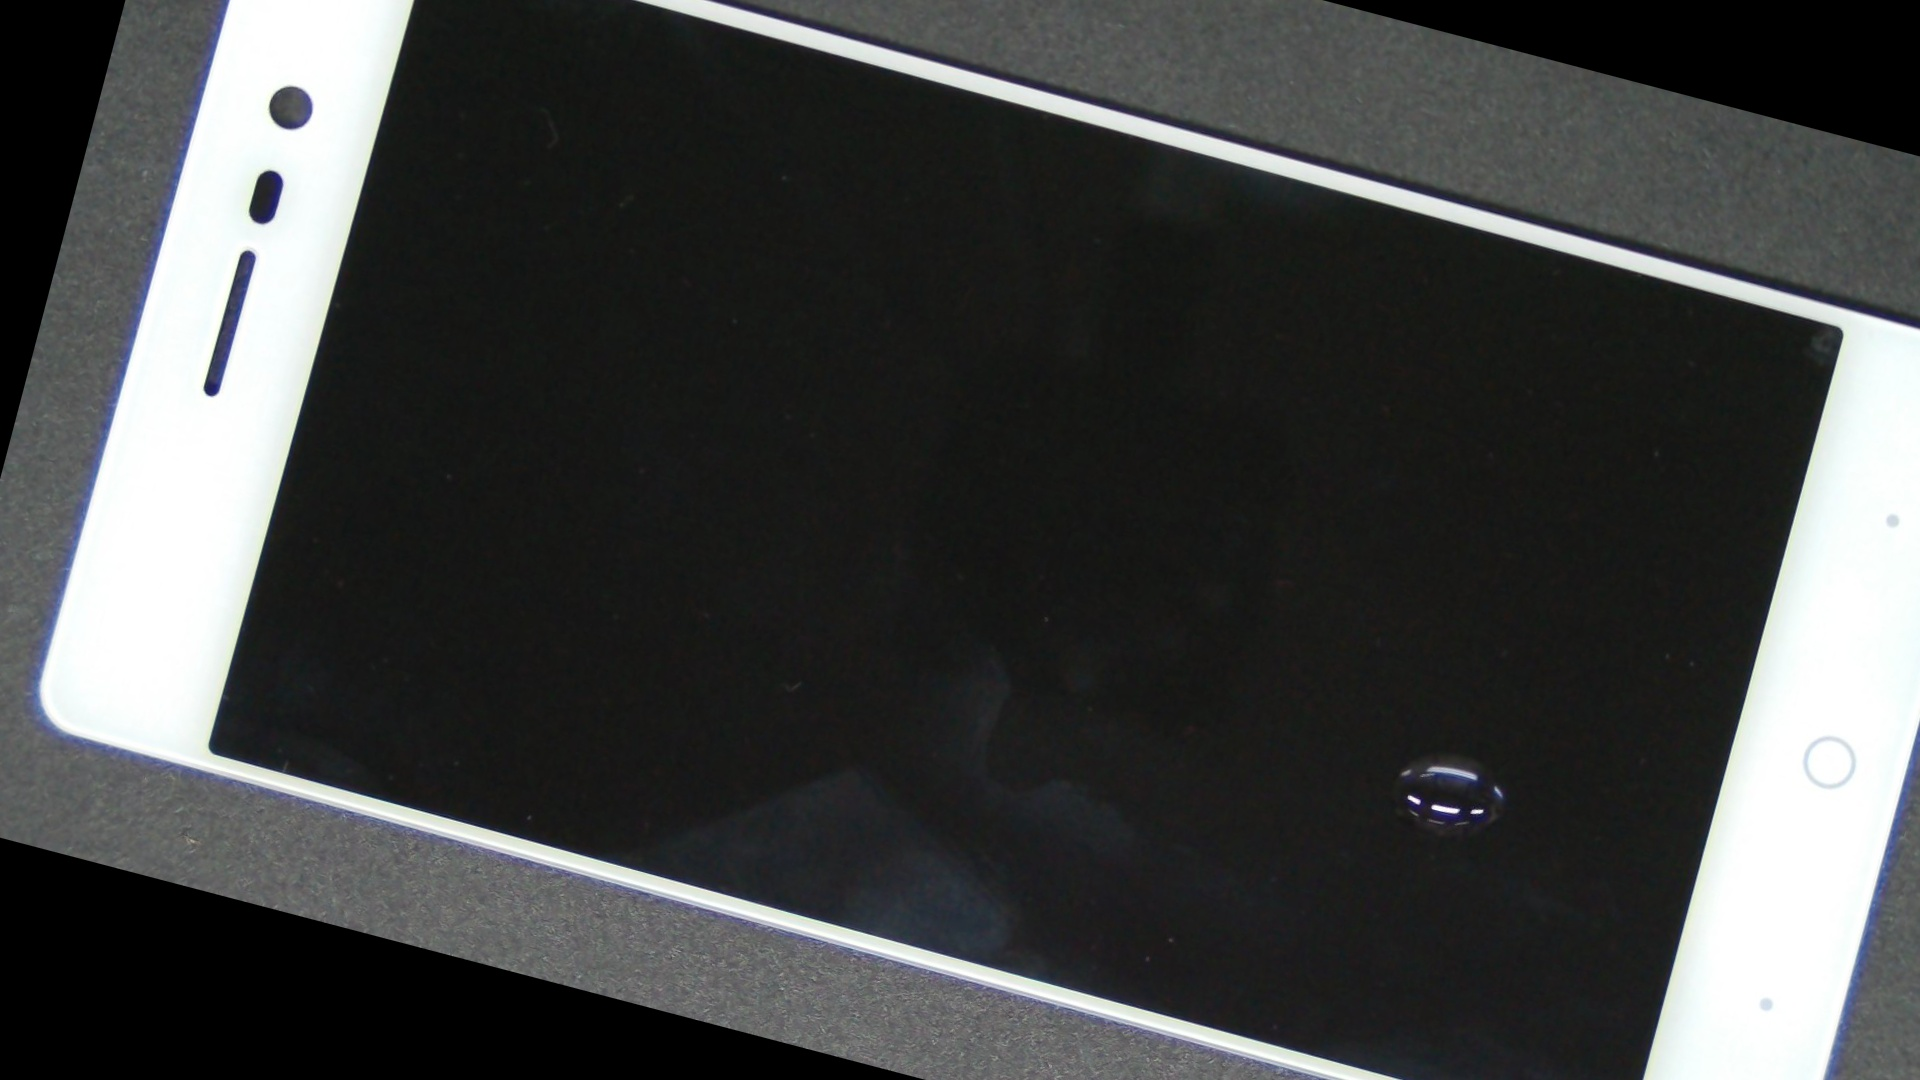oil: (659, 232, 1920, 1080)
